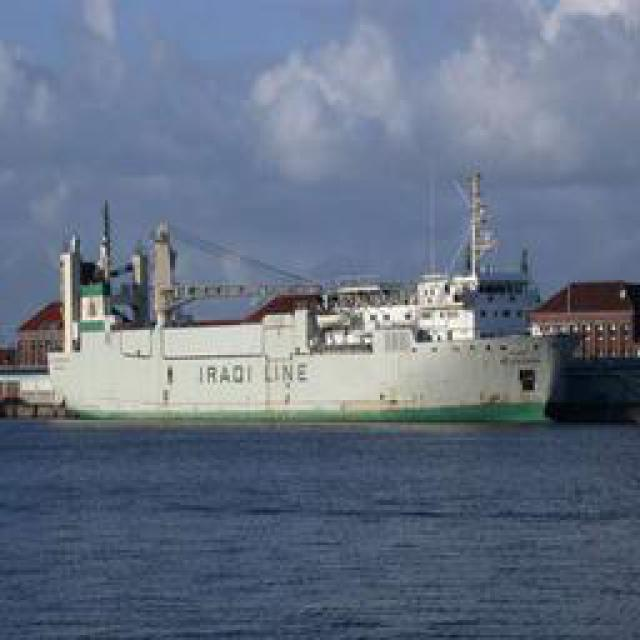Ship: (51, 285, 571, 425)
